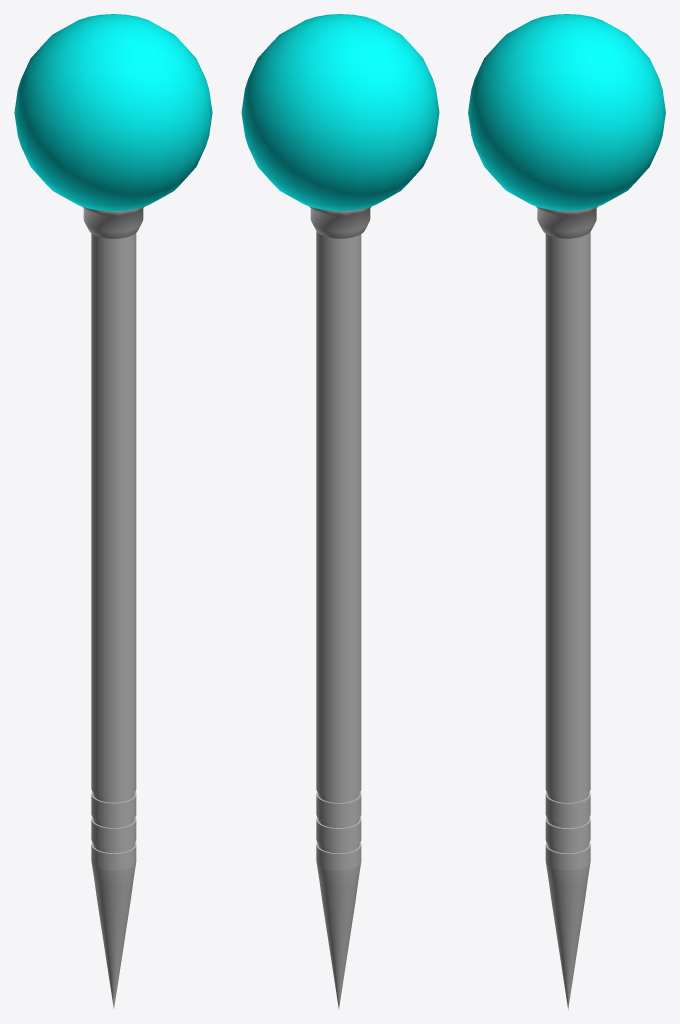
File: CYAN.glb
3 renders of one model, left to right at view 1: azimuth 30°, elevation 25°; view 2: azimuth 150°, elevation 25°; view 3: azimuth 270°, elevation 25°, orthographic.
Visible parts, largest first — view 1: Needle, Sphere, Ball_Holder; view 2: Needle, Sphere, Ball_Holder; view 3: Needle, Sphere, Ball_Holder.
Boxes of the visible parts, left/top/right/bottom form: Needle: left=91, top=233, right=136, bottom=1008; Sphere: left=14, top=14, right=212, bottom=211; Ball_Holder: left=82, top=206, right=144, bottom=238; Needle: left=316, top=231, right=361, bottom=1009; Sphere: left=241, top=14, right=439, bottom=211; Ball_Holder: left=309, top=206, right=371, bottom=238; Needle: left=545, top=232, right=590, bottom=1009; Sphere: left=468, top=14, right=665, bottom=211; Ball_Holder: left=536, top=206, right=597, bottom=238.
Bounding box in the file's own units: 2.2 × 12.1 × 2.2.
